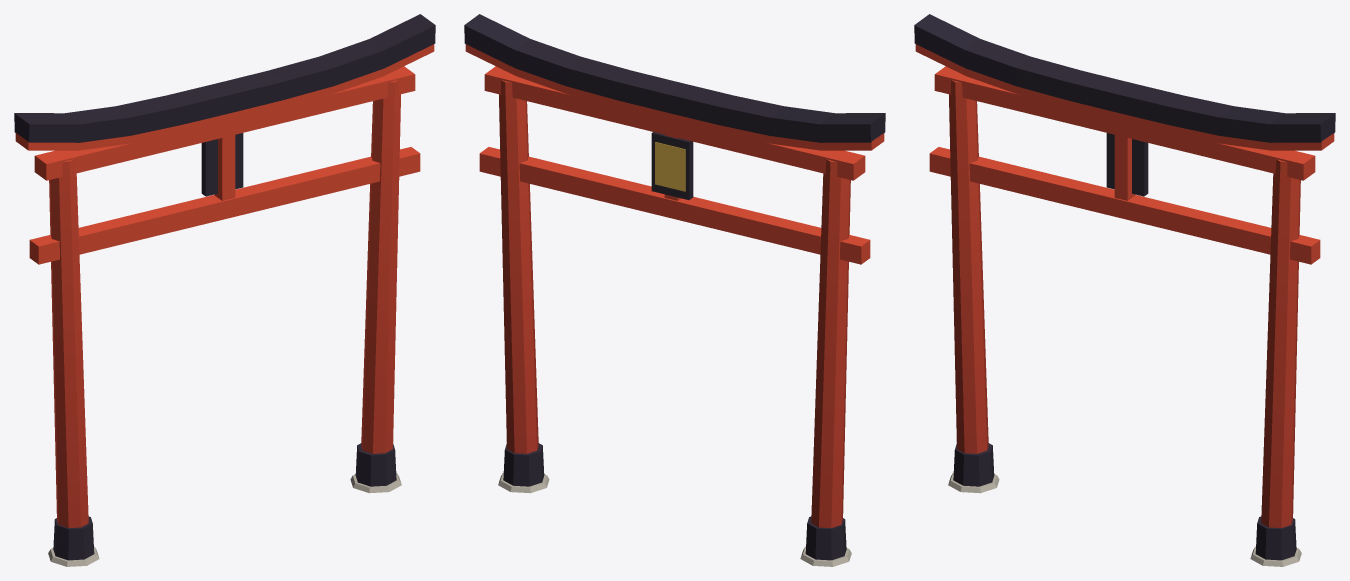
The model's file is torii_large.glb.
The picture shows the model from 3 angles, left to right: view 1: azimuth 30°, elevation 25°; view 2: azimuth 150°, elevation 25°; view 3: azimuth 330°, elevation 25°; orthographic projection.
Visible parts, largest first — view 1: torii_large; view 2: torii_large; view 3: torii_large.
Part boxes in pixels (<box>): torii_large: <box>14,14,435,566</box>; torii_large: <box>464,14,885,566</box>; torii_large: <box>914,14,1335,566</box>.
Bounding box in the file's own units: 5.91 × 6.26 × 0.672.
